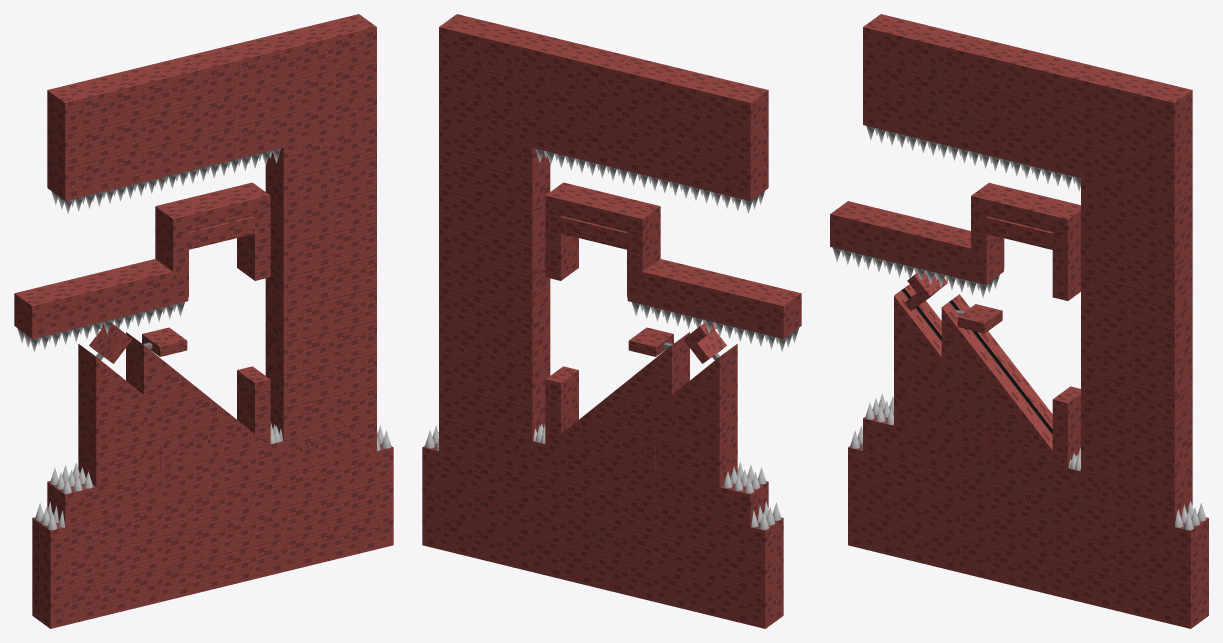
3 renders of one model, left to right at view 1: azimuth 30°, elevation 25°; view 2: azimuth 150°, elevation 25°; view 3: azimuth 330°, elevation 25°, orthographic.
Visible parts, largest first — view 1: Ground.039, Ground.029, Ground.028, Ground.036, Ground.034, Ground.032, Ground.031, Ground.027, Ground.030, Elevator_Mesh.001, Elevator_Mesh, Spikes.017; view 2: Ground.039, Ground.029, Ground.028, Ground.036, Ground.034, Ground.032, Ground.031, Ground.030, Elevator_Mesh.001, Elevator_Mesh, Spikes.017, Ground.027 (+1 smaller); view 3: Ground.039, Ground.029, Ground.028, Ground.036, Ground.034, Ground.030, Ground.031, Ground.032, Ground.027, Elevator_Mesh, Elevator_Mesh.001, Spikes.008 (+2 smaller).
Boxes of the visible parts, <box> form: Ground.039: <box>47,14,376,462</box>; Ground.029: <box>32,332,393,628</box>; Ground.028: <box>78,344,143,519</box>; Ground.036: <box>14,259,188,338</box>; Ground.034: <box>155,182,270,300</box>; Ground.032: <box>47,439,188,527</box>; Ground.031: <box>237,366,270,444</box>; Ground.027: <box>208,427,330,466</box>; Ground.030: <box>173,216,270,269</box>; Elevator_Mesh.001: <box>89,322,132,363</box>; Elevator_Mesh: <box>142,327,187,356</box>; Spikes.017: <box>50,462,93,493</box>; Ground.039: <box>439,14,768,464</box>; Ground.029: <box>422,332,783,628</box>; Ground.028: <box>672,344,737,519</box>; Ground.036: <box>627,259,801,338</box>; Ground.034: <box>545,182,660,300</box>; Ground.032: <box>627,439,768,527</box>; Ground.031: <box>545,366,578,444</box>; Ground.030: <box>546,216,642,284</box>; Elevator_Mesh.001: <box>683,322,726,363</box>; Elevator_Mesh: <box>628,327,673,356</box>; Spikes.017: <box>723,462,766,493</box>; Ground.027: <box>488,427,607,465</box>; Ground.039: <box>863,14,1192,526</box>; Ground.029: <box>848,294,1208,628</box>; Ground.028: <box>894,284,941,470</box>; Ground.036: <box>830,201,1003,284</box>; Ground.034: <box>971,183,1080,300</box>; Ground.030: <box>971,214,1080,286</box>; Ground.031: <box>1052,386,1080,468</box>; Ground.032: <box>863,410,985,458</box>; Ground.027: <box>1005,427,1128,515</box>; Elevator_Mesh: <box>956,304,1002,333</box>; Elevator_Mesh.001: <box>904,271,947,310</box>; Spikes.008: <box>1174,500,1206,530</box>.
Size of what is drawn, in the model's own units: 10.93 by 15.11 by 0.9544.
Materials: 4 (1 with a texture image).
